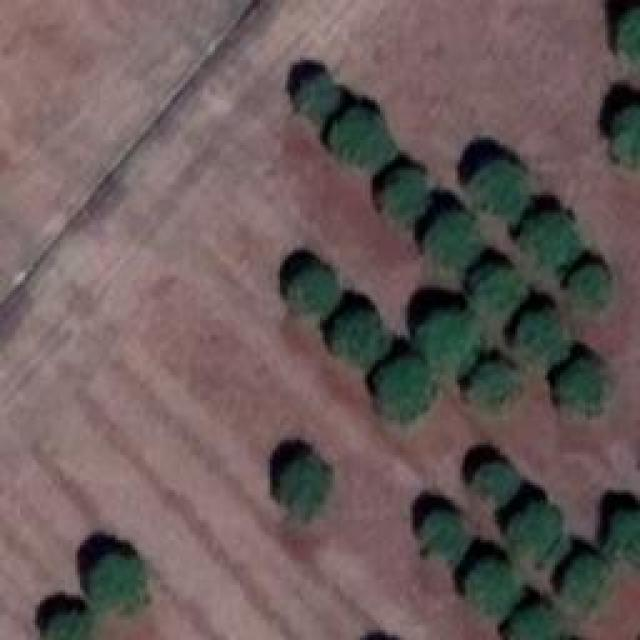Tree: (335, 110, 398, 170), (468, 160, 528, 220), (418, 315, 481, 370), (507, 505, 565, 563), (522, 212, 580, 270), (378, 360, 433, 415), (428, 213, 483, 268), (333, 313, 388, 366), (95, 557, 145, 615), (277, 460, 325, 520), (558, 360, 611, 413), (515, 313, 568, 366), (473, 363, 523, 416), (473, 265, 526, 313), (565, 555, 608, 608), (290, 270, 340, 315), (470, 562, 515, 610), (423, 512, 468, 560), (383, 170, 423, 220), (297, 78, 335, 118), (475, 465, 518, 500), (573, 268, 608, 311), (512, 607, 557, 640), (610, 512, 640, 560), (617, 107, 640, 164), (620, 10, 640, 68), (50, 615, 90, 640)
